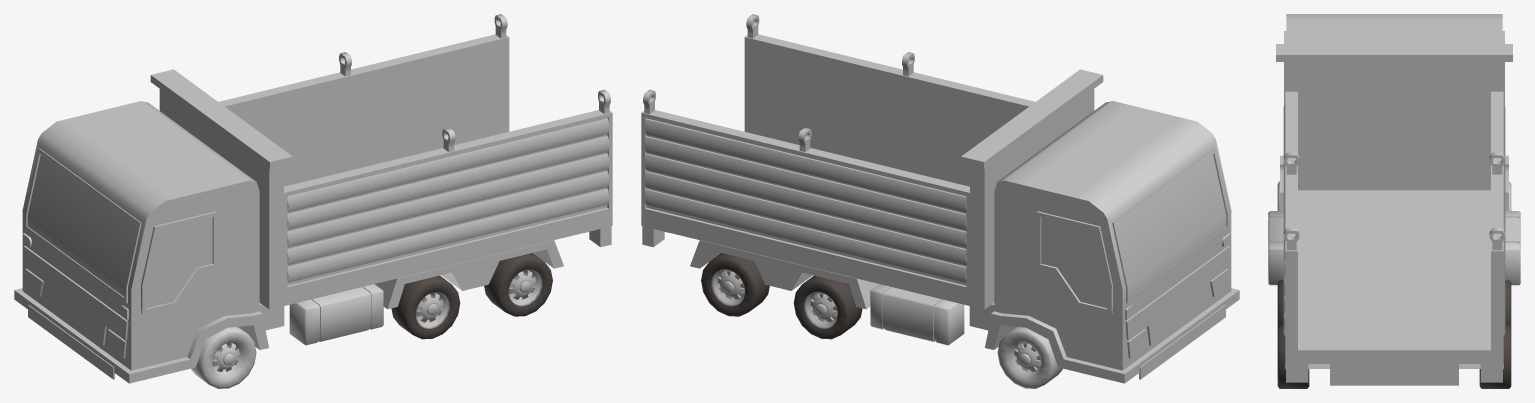
Rendered from Truck.fbx.
The picture shows the model from 3 angles, left to right: view 1: azimuth 30°, elevation 25°; view 2: azimuth 150°, elevation 25°; view 3: azimuth 270°, elevation 25°; orthographic projection.
Parts seen in each view (by area): view 1: Truck_2, Truck_2.001, Truck_2_w2, Truck_2_w3, Truck_2_w1; view 2: Truck_2, Truck_2.001, Truck_2_w2, Truck_2_w3, Truck_2_w1; view 3: Truck_2, Truck_2.001, Truck_2_w3, Truck_2_w2.
Boxes of the visible parts, x1=… form: Truck_2: x1=14, y1=14, x2=612, y2=383; Truck_2.001: x1=22, y1=101, x2=259, y2=370; Truck_2_w2: x1=391, y1=275, x2=460, y2=339; Truck_2_w3: x1=484, y1=253, x2=552, y2=316; Truck_2_w1: x1=191, y1=326, x2=256, y2=388; Truck_2: x1=641, y1=14, x2=1239, y2=383; Truck_2.001: x1=994, y1=101, x2=1231, y2=370; Truck_2_w2: x1=793, y1=275, x2=862, y2=339; Truck_2_w3: x1=701, y1=253, x2=769, y2=316; Truck_2_w1: x1=997, y1=326, x2=1062, y2=388; Truck_2: x1=1268, y1=44, x2=1520, y2=385; Truck_2.001: x1=1284, y1=14, x2=1504, y2=105; Truck_2_w3: x1=1277, y1=325, x2=1511, y2=388; Truck_2_w2: x1=1277, y1=280, x2=1511, y2=327.
Size of the model in its own units: 2098 by 898 by 946.
